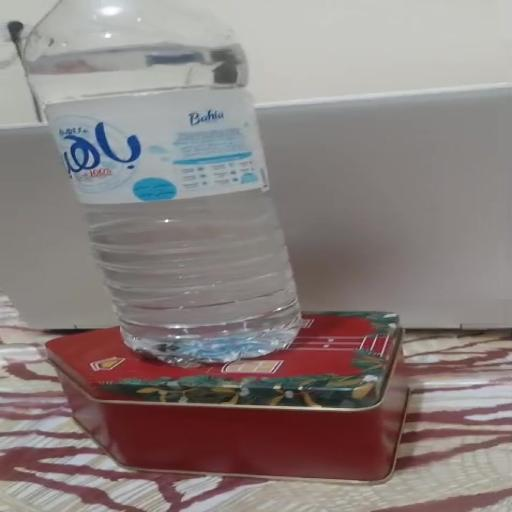bouteille conformite: (9, 2, 322, 373)
